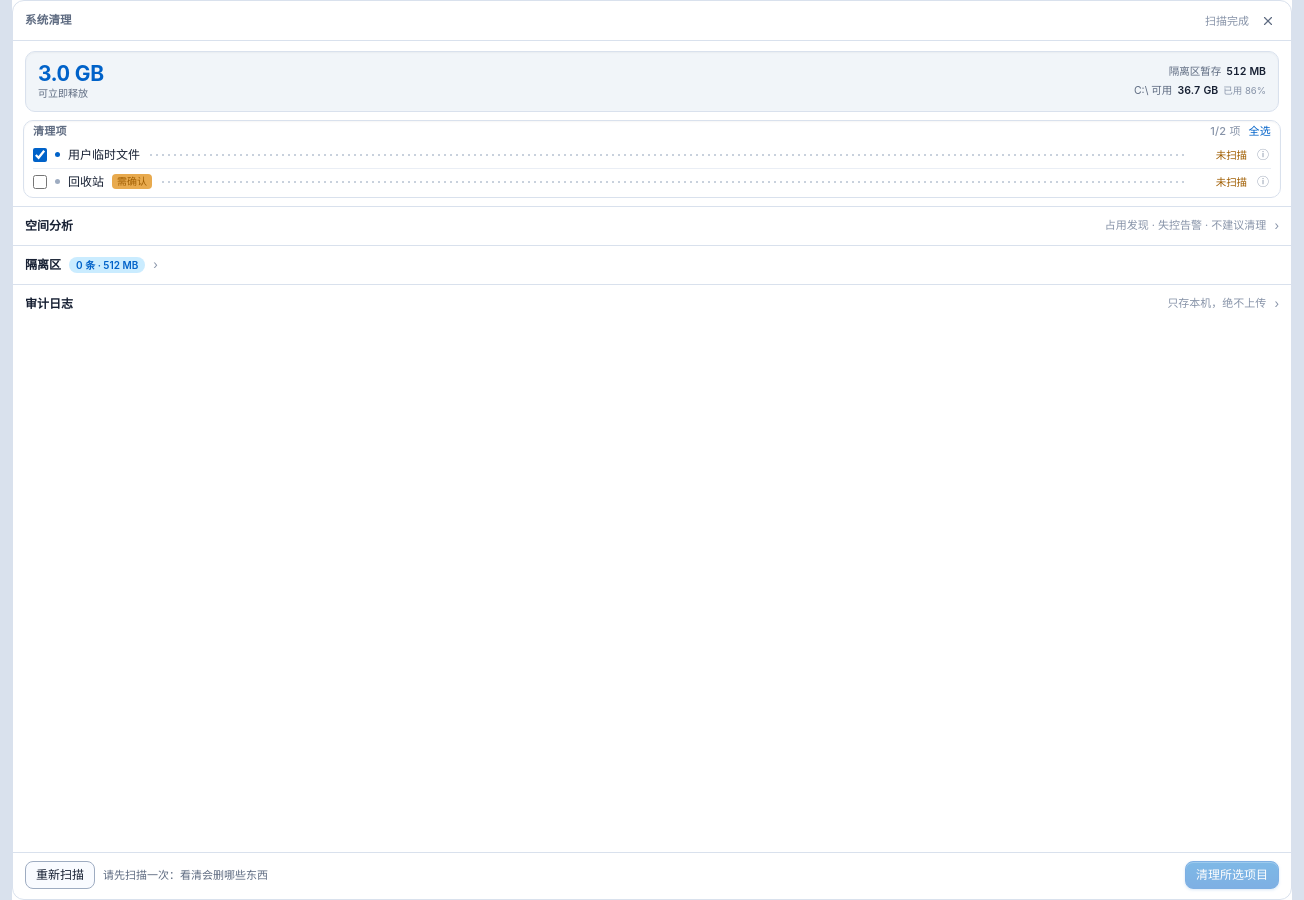
Test: SystemCleanerTool › 空间账目分栏：「可立即释放」与「隔离区暂存」分开显示
expect the text "可立即释放" is shown: met, box [38, 87, 88, 99]
expect the text "3.0 GB" is shown: met, box [38, 62, 104, 85]
What coordinates should you click on to do the following:
click the button "隔离区 0 条 · 512 MB ›"
I would click on:
 (43, 264)
Its box is [13, 245, 1291, 284].
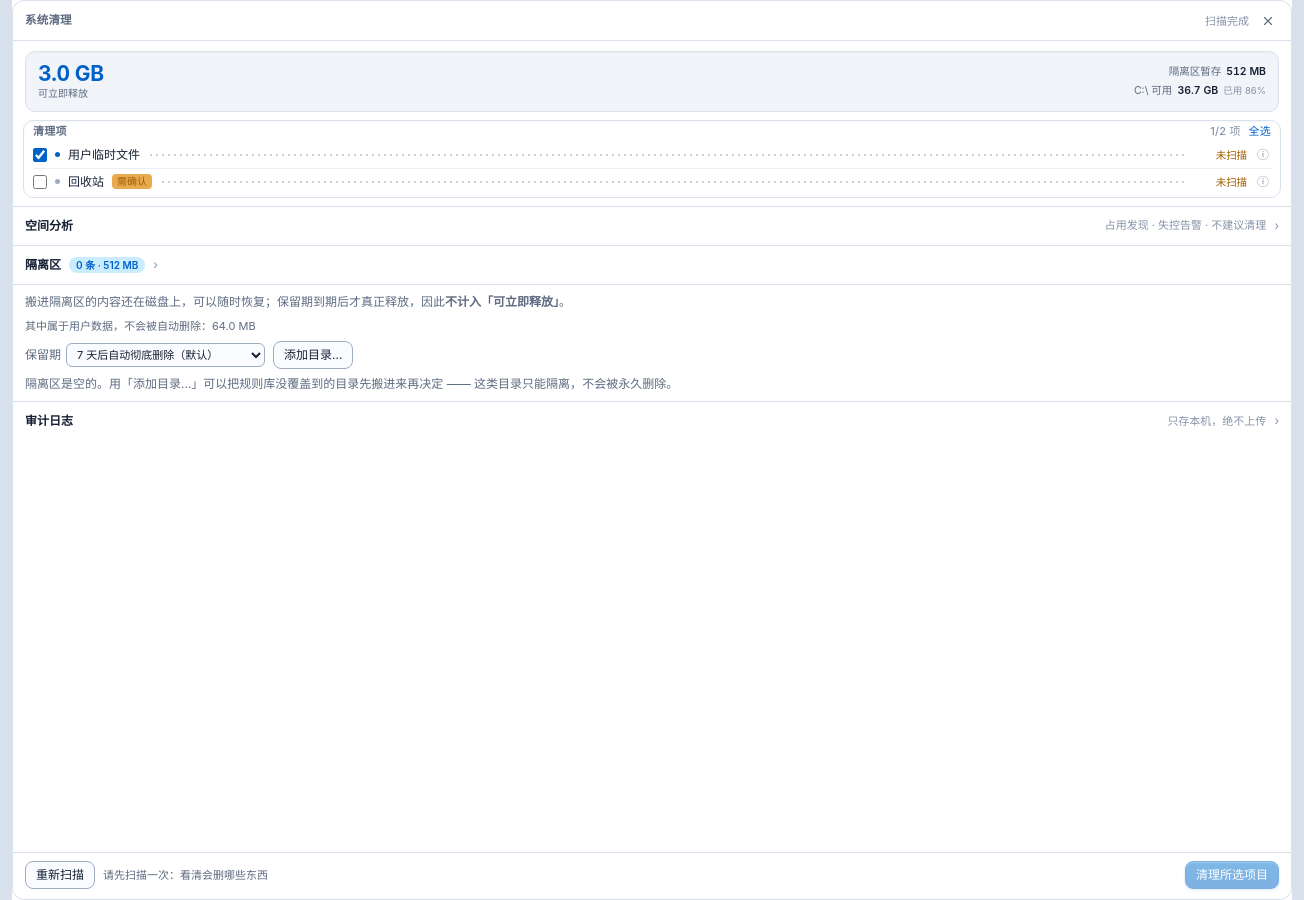
expect the text "其中属于用户数据，不会被自动删除：64.0 MB" is shown: met, box [25, 319, 256, 333]
